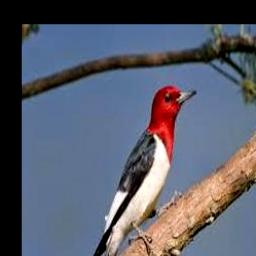Woodpecker: (90, 85, 196, 256)
